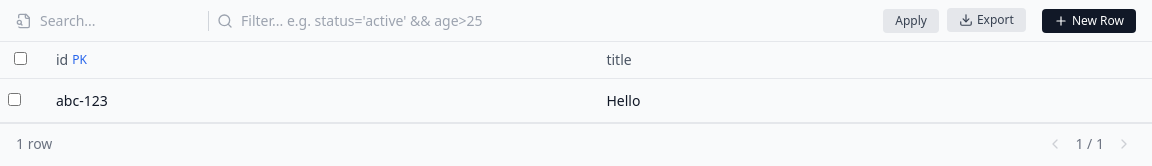
TableBrowser › shows CSV and JSON options in Export menu
This screenshot has width=1152, height=166.
expect the text "Hello" is shown: met, box [590,78,1072,122]
Click the button "Export".
click(986, 20)  # box [947,8,1026,32]
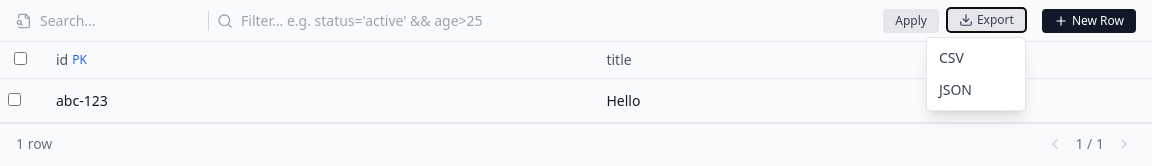
expect the button "CSV" is shown: met, box [927,42,1025,74]
expect the button "JSON" is shown: met, box [927,74,1025,106]
